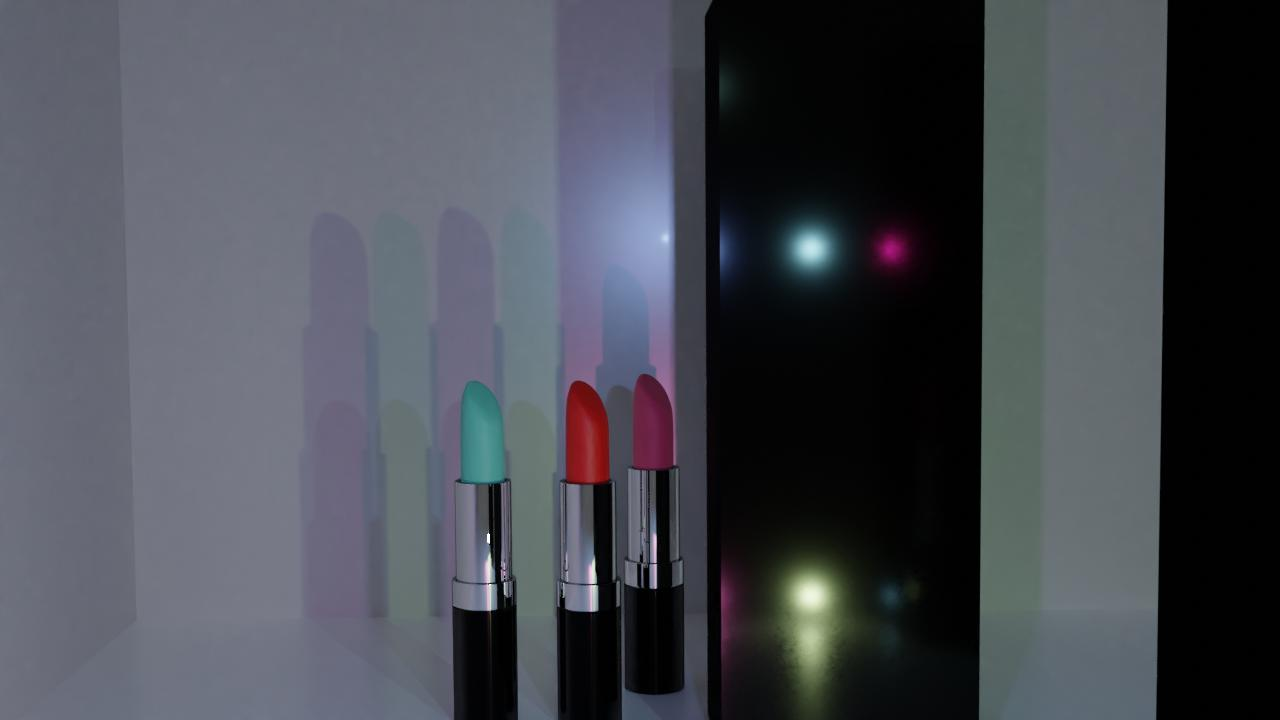CLASSIFIER_NAME: (451, 376, 519, 720), (556, 376, 623, 720), (623, 370, 685, 700)
